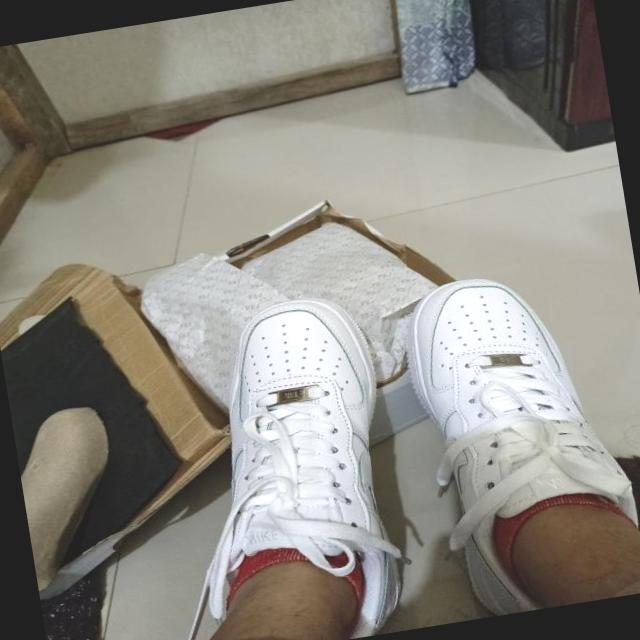nike_fake_airforce: (159, 288, 423, 640), (390, 255, 640, 624)
